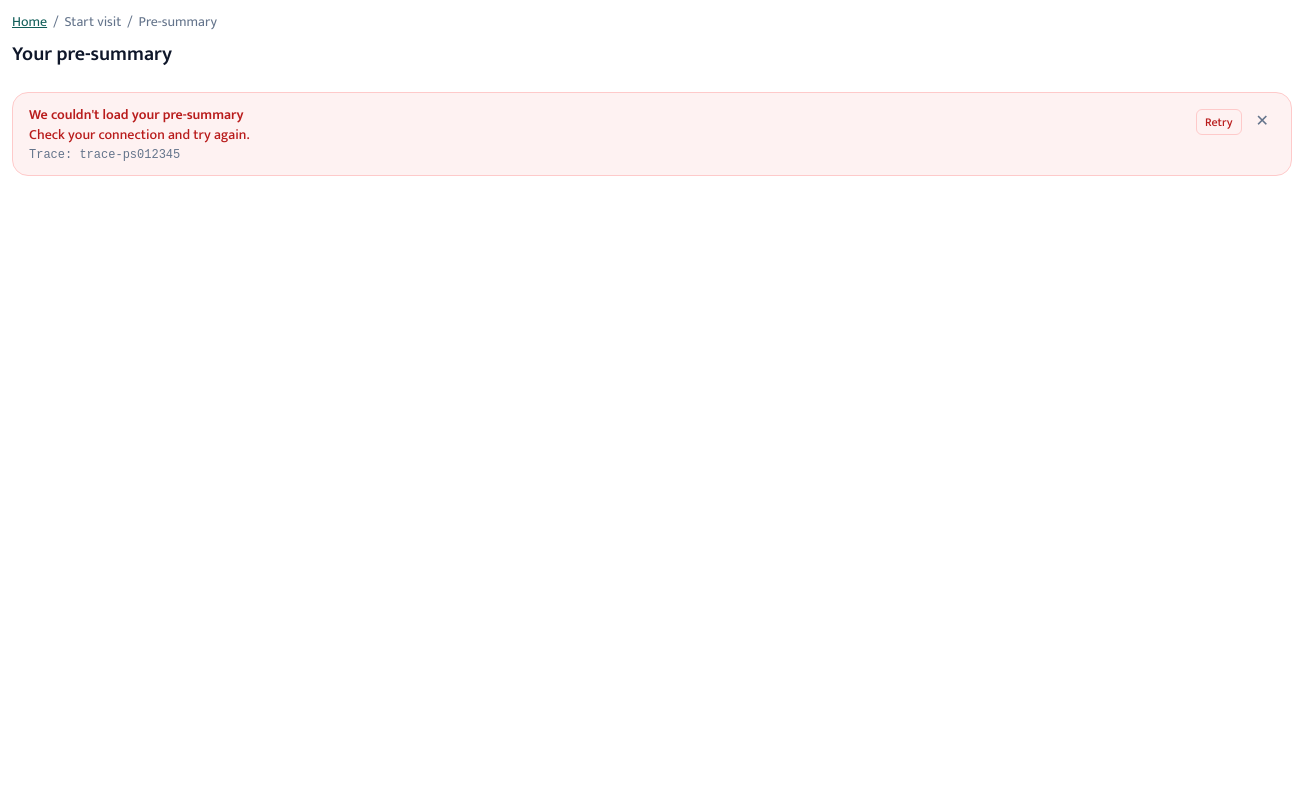
Test: PreSummaryReviewPage failure and edge cases › shows a trace-id error banner when the pre-summary fails to load, and retries
Expected: the message with test id "error-banner" shows "We couldn't load your pre-summary", [29, 103, 244, 126]
Expected: the text with test id "error-banner-trace-id" shows "trace-ps012345", [79, 148, 180, 162]
Click the button with test id "error-banner-retry": x=1219, y=122 [1196, 109, 1242, 135]
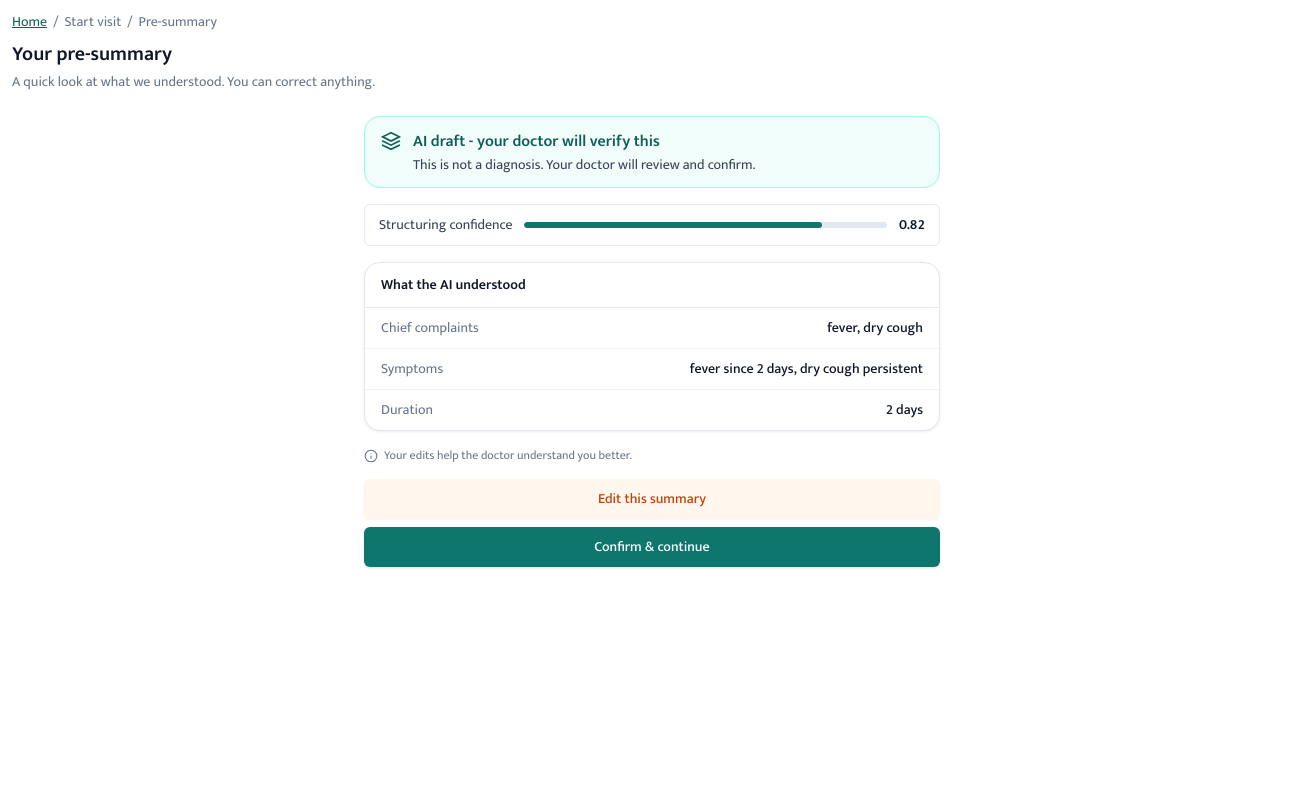
Expected: the message with test id "honesty-banner" is shown, [364, 116, 940, 188]
